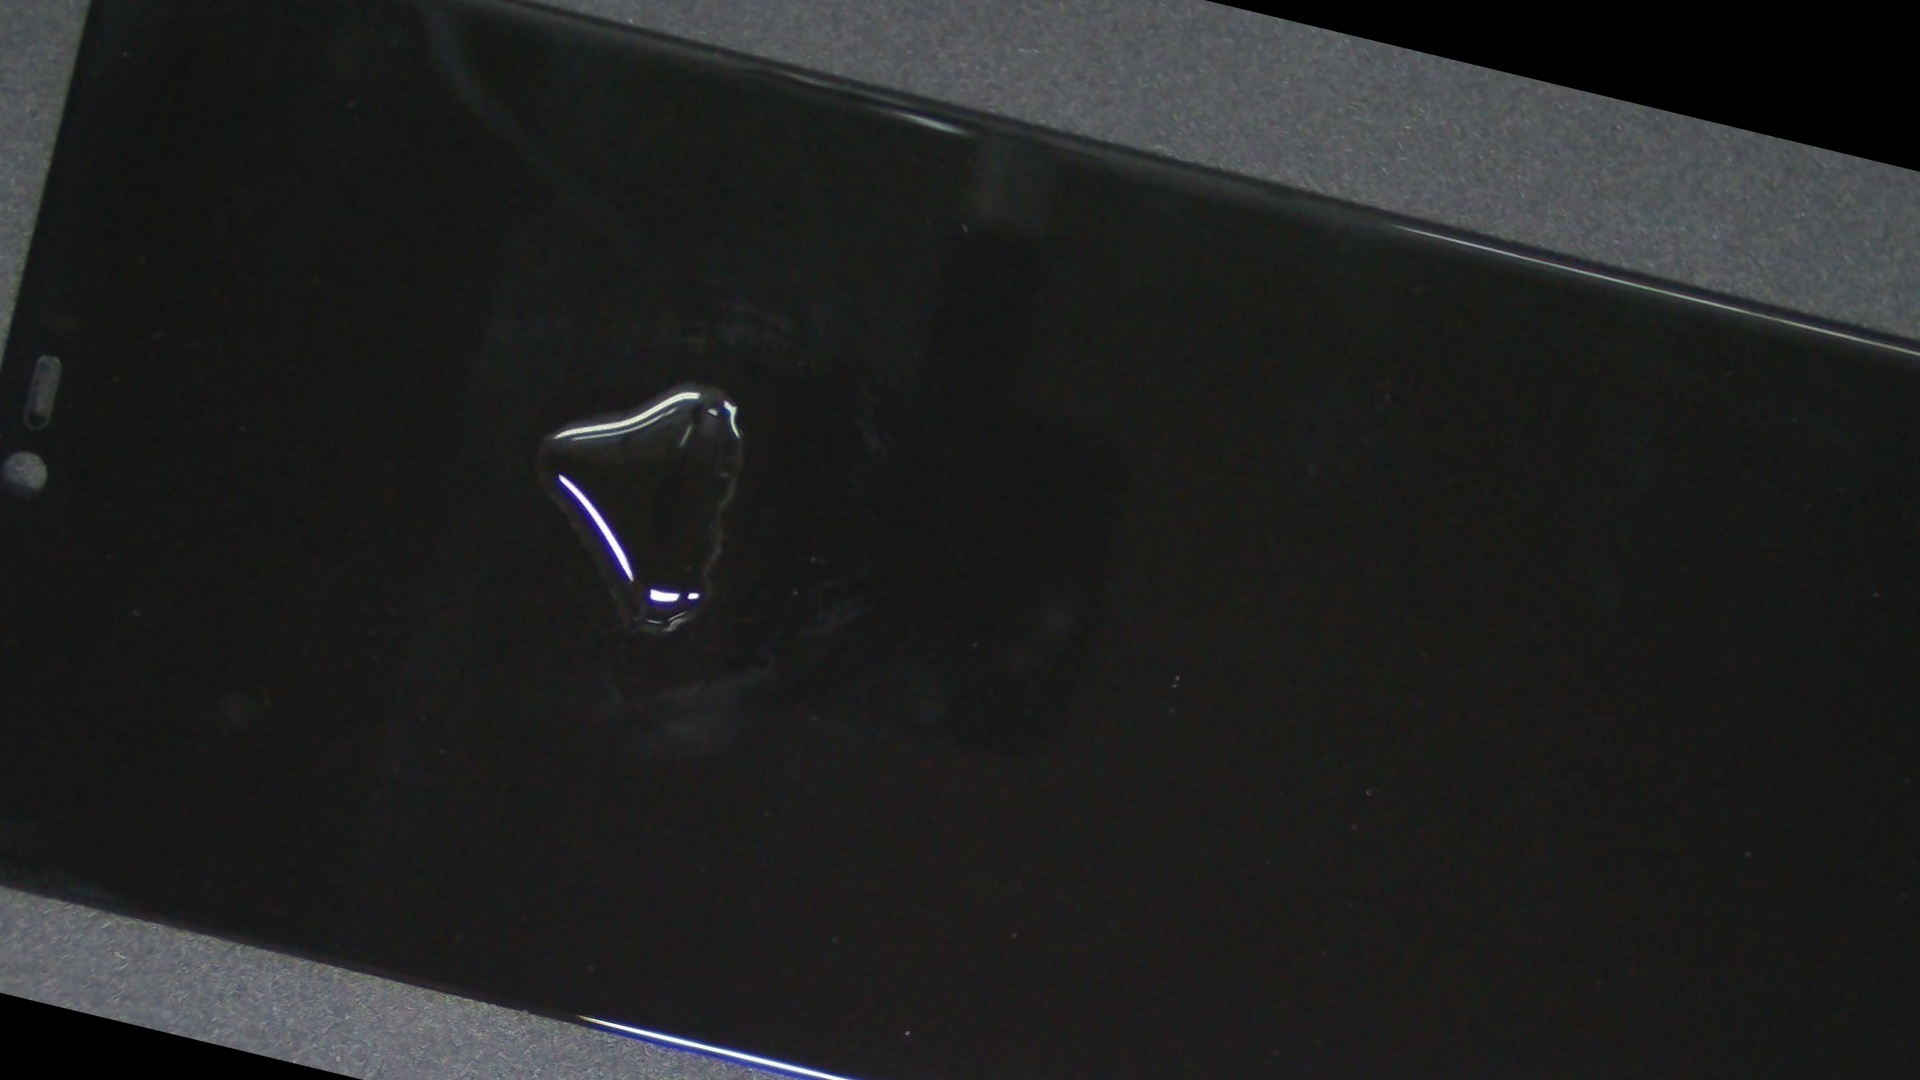oil: (265, 53, 1162, 716)
